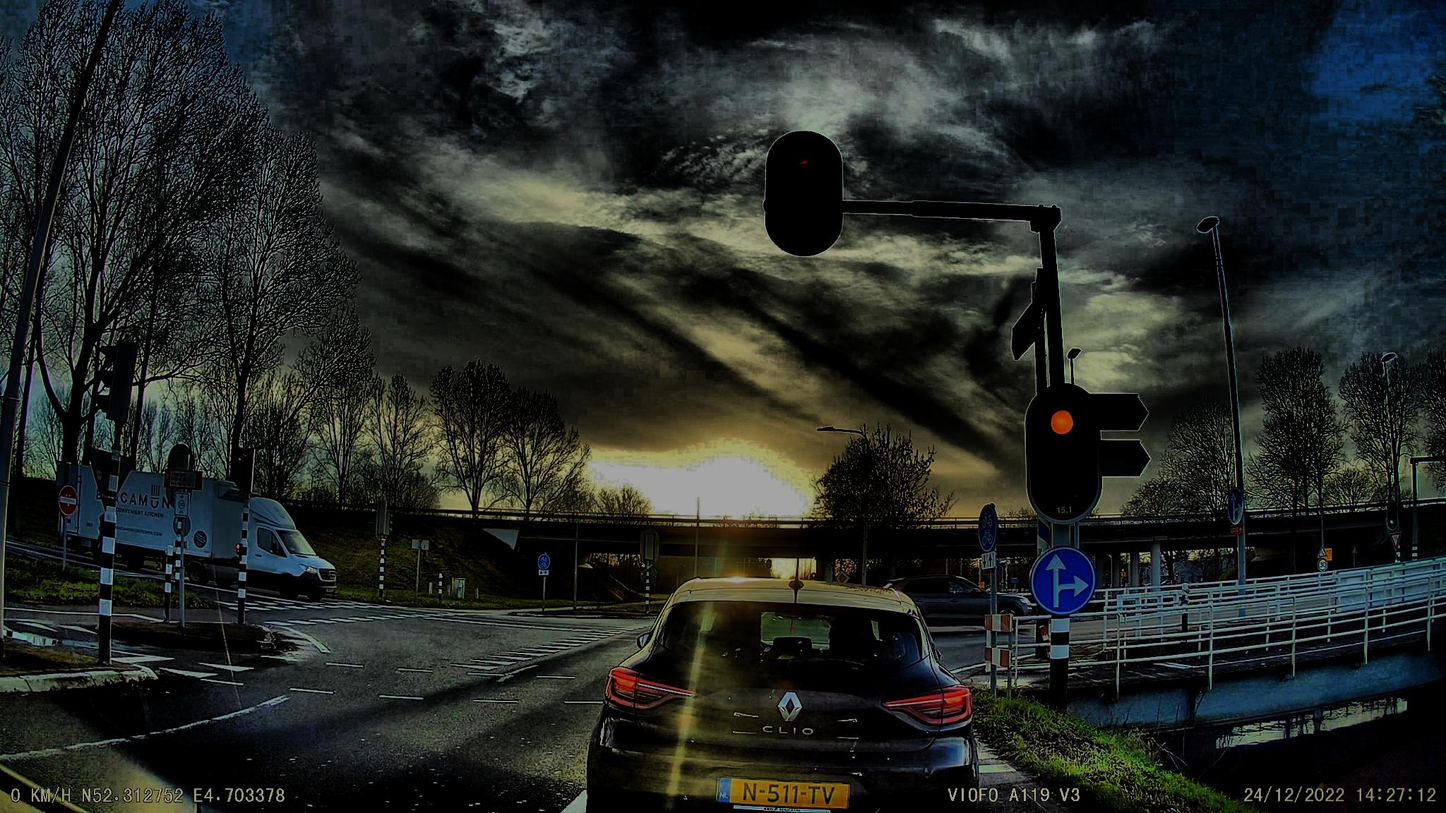Roads: (0, 613, 654, 813)
